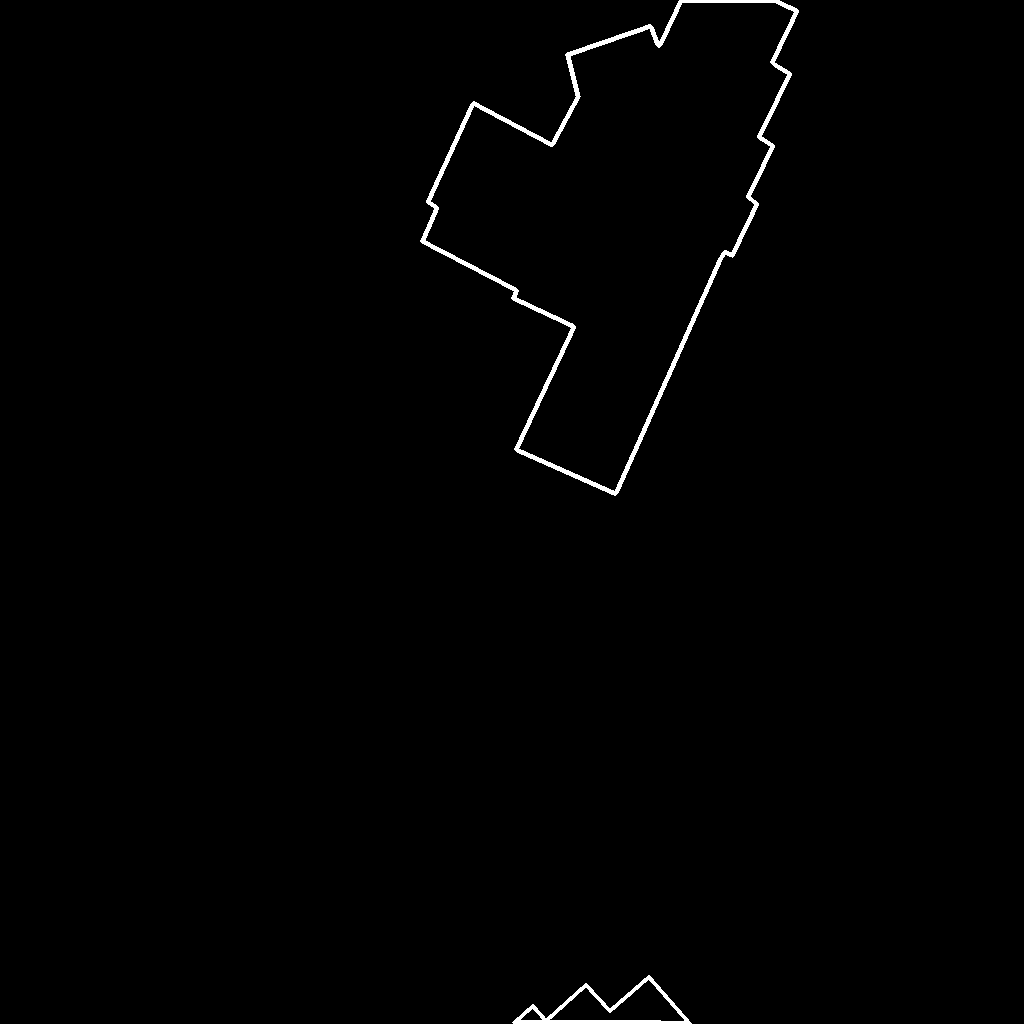building: (422, 0, 798, 495), (514, 977, 691, 1024)
